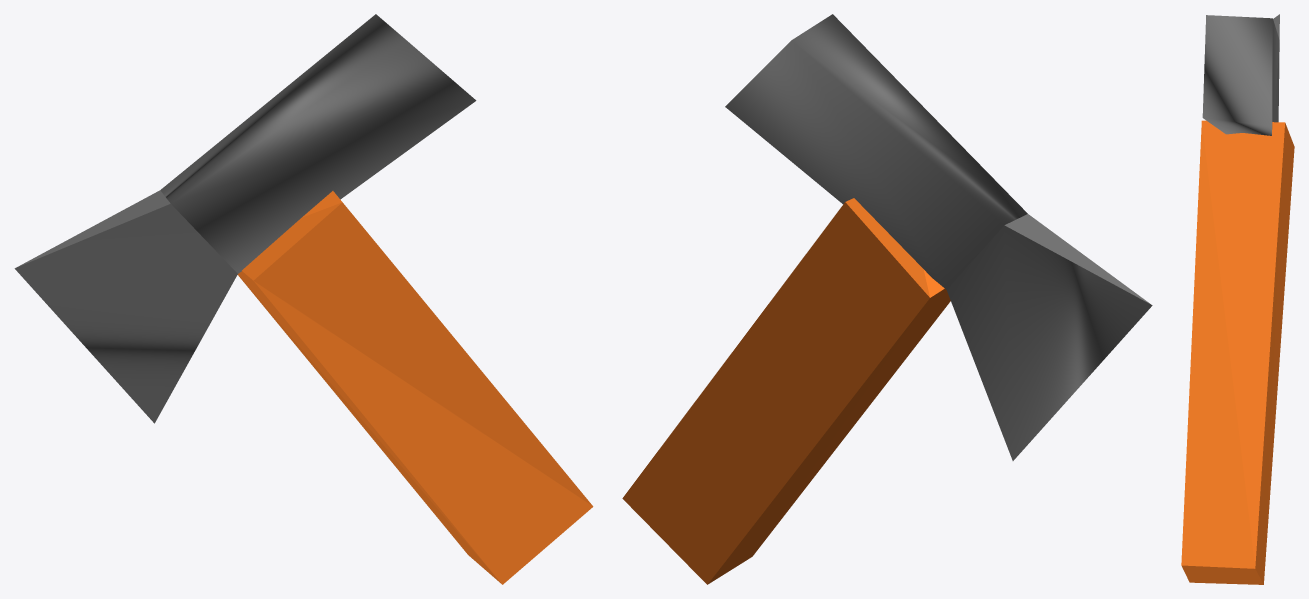
File: Stone Axe.glb
3 renders of one model, left to right at view 1: azimuth 30°, elevation 25°; view 2: azimuth 150°, elevation 25°; view 3: azimuth 270°, elevation 25°, orthographic. The views are drawn at different scales.
Visible parts, largest first — view 1: Cube.003; view 2: Cube.003; view 3: Cube.003.
Part boxes in pixels (x1,y1,x2,y2): Cube.003: (14,14,593,584); Cube.003: (622,14,1152,584); Cube.003: (1181,14,1294,584).
Bounding box in the file's own units: 5.7 × 5.73 × 1.11.
